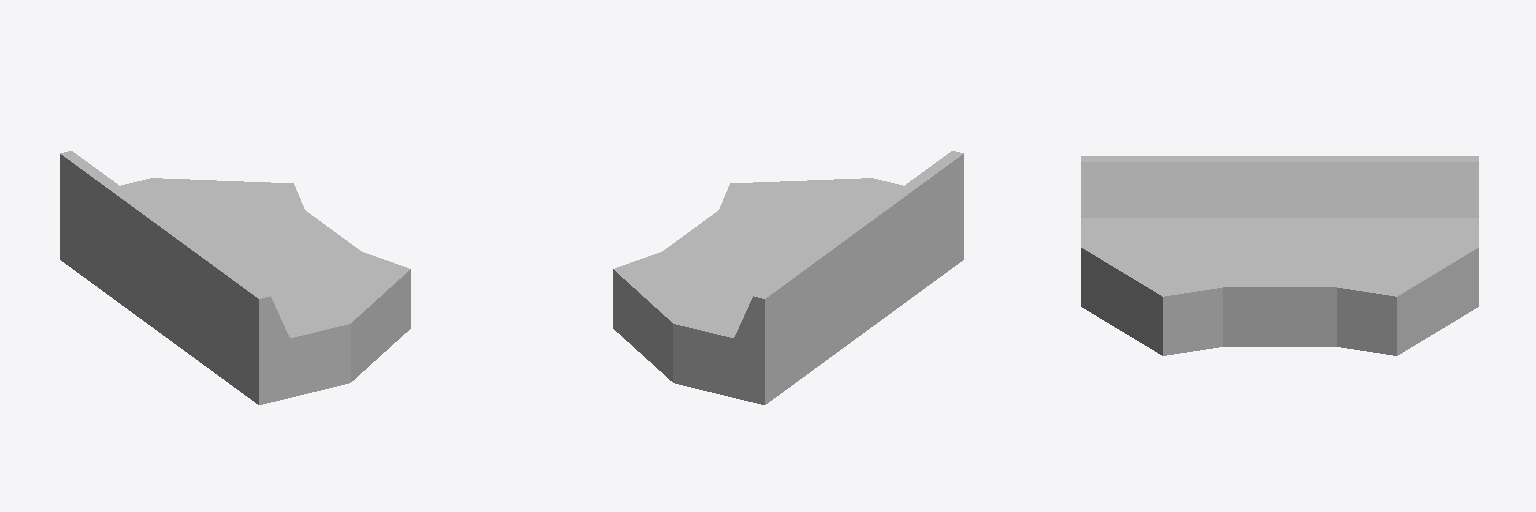
File: mesa.obj
3 views of the same model, side by side, from view 1: azimuth 30°, elevation 25°; view 2: azimuth 150°, elevation 25°; view 3: azimuth 270°, elevation 25° (orthographic).
Parts seen in each view (by area): view 1: Cube; view 2: Cube; view 3: Cube.
Part boxes in pixels (left/top/right/bottom): Cube: left=60, top=151, right=410, bottom=404; Cube: left=613, top=151, right=963, bottom=404; Cube: left=1081, top=156, right=1478, bottom=355.
Size of the model in its own units: 6.8 by 3.58 by 12.15.